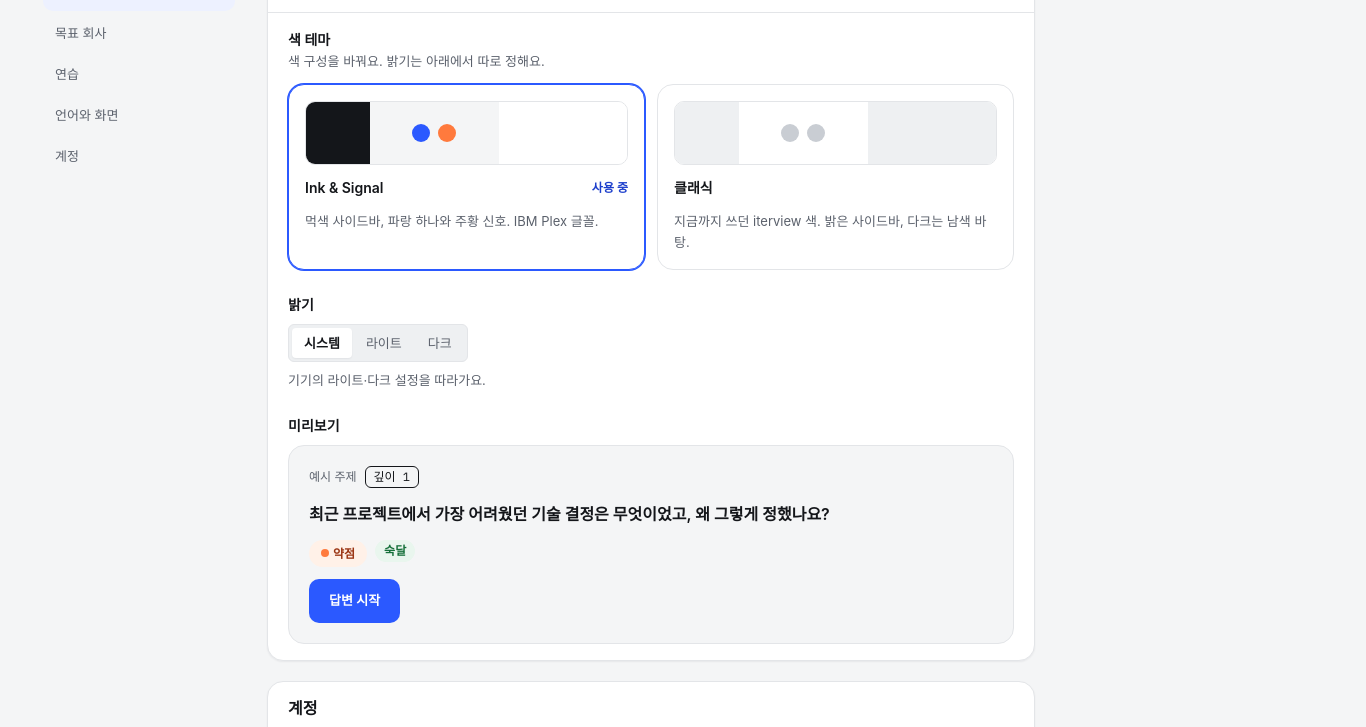
Scenario: SettingsPage › picks the color theme separately from brightness and keeps it for the next visit
(page scrolled)
Expected: the radio button labelled "Ink & Signal" is checked, [288,84,645,270]
Expected: the radio button labelled "Ink & Signal" shows "사용 중", [592,180,628,195]
Step 1. Click the radio button labelled "다크" → (440, 343), box [416,328,464,358]
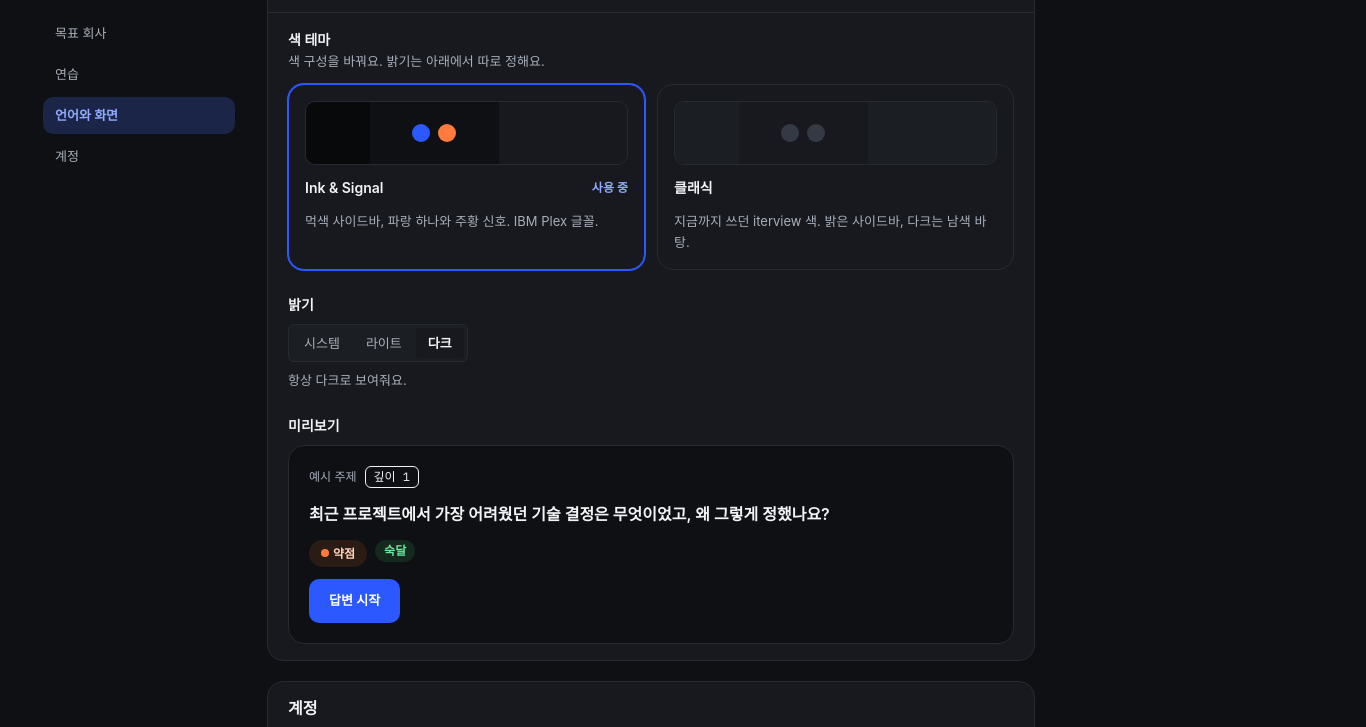
Expected: the text "항상 다크로 보여줘요." is shown, [288,370,407,391]
Step 2. Click the radio button labelled "클래식" → (836, 133), box [657,84,1014,270]
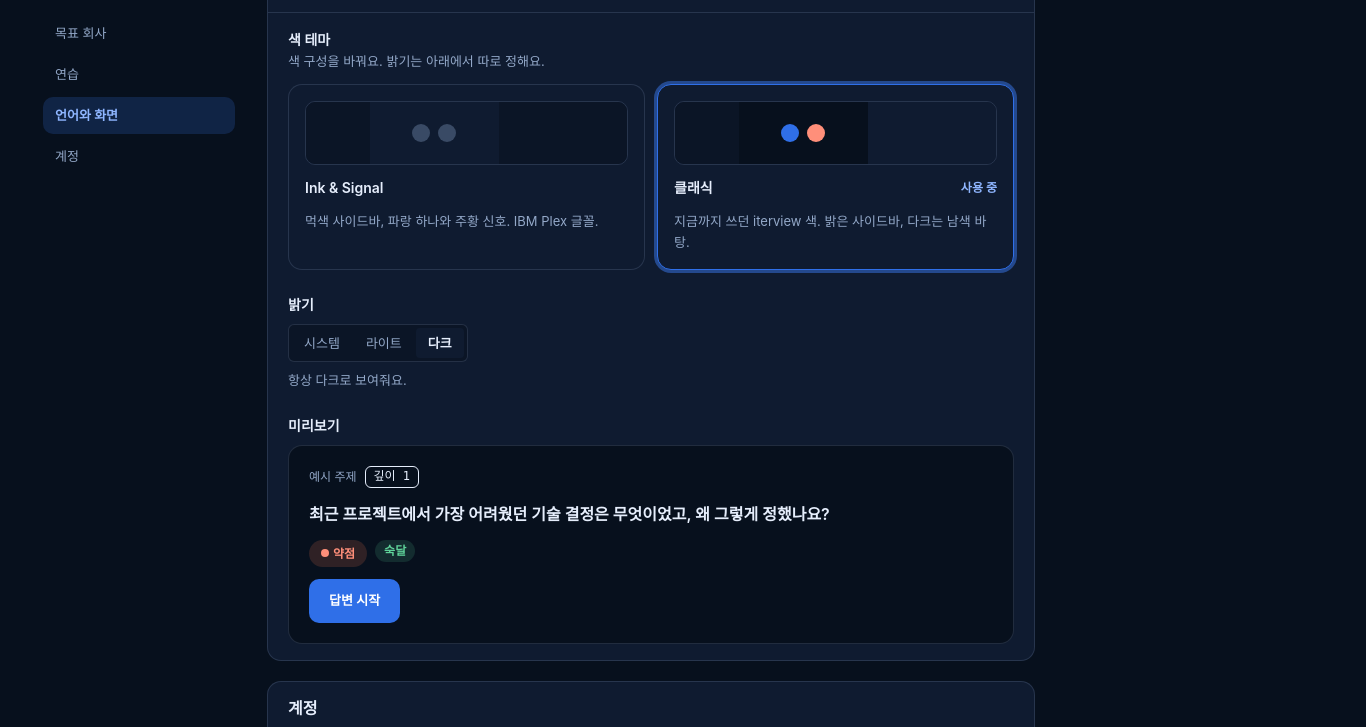
Expected: the radio button labelled "Ink & Signal" does not show "사용 중", [288,84,645,270]
Expected: the radio button labelled "클래식" is checked, [657,84,1014,270]
Expected: the radio button labelled "클래식" shows "사용 중", [961,180,997,195]
